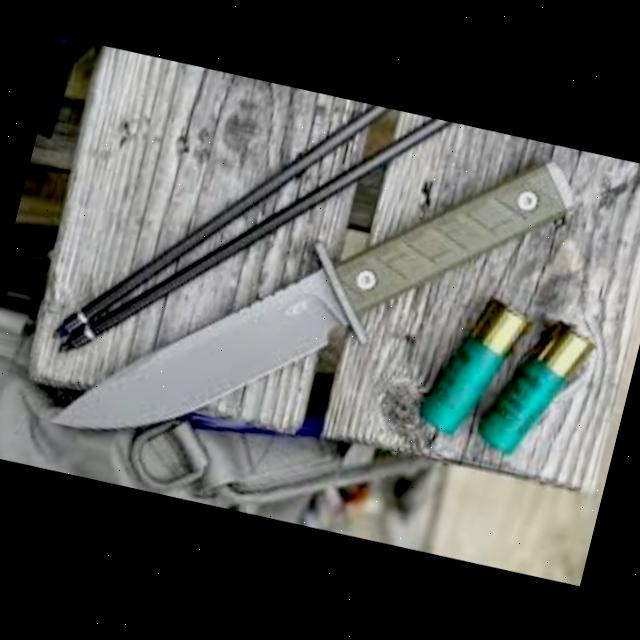knife: (49, 55, 582, 531)
